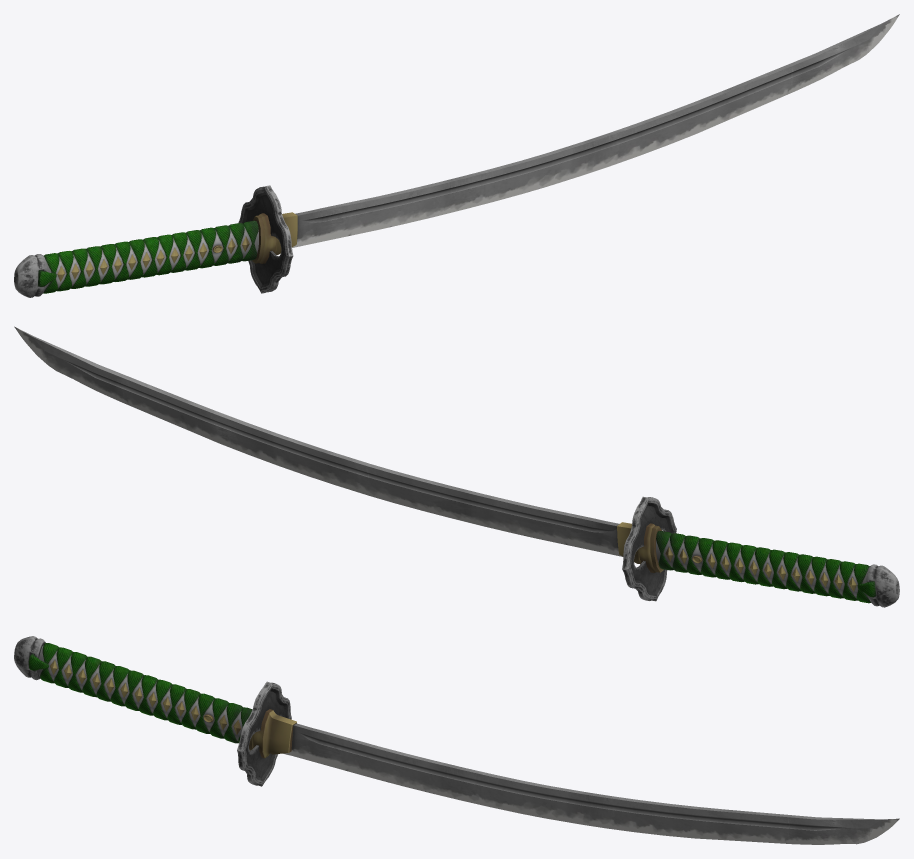
3 renders of one model, top to bottom at view 1: azimuth 30°, elevation 25°; view 2: azimuth 150°, elevation 25°; view 3: azimuth 330°, elevation 25°, orthographic.
Visible parts, largest first — view 1: Katana; view 2: Katana; view 3: Katana.
Part boxes in pixels (<box>): Katana: <box>14,14,899,297</box>; Katana: <box>14,326,899,607</box>; Katana: <box>14,636,899,844</box>.
Bounding box in the file's own units: 146 × 19.19 × 14.58.
1 material, 1 textured.
